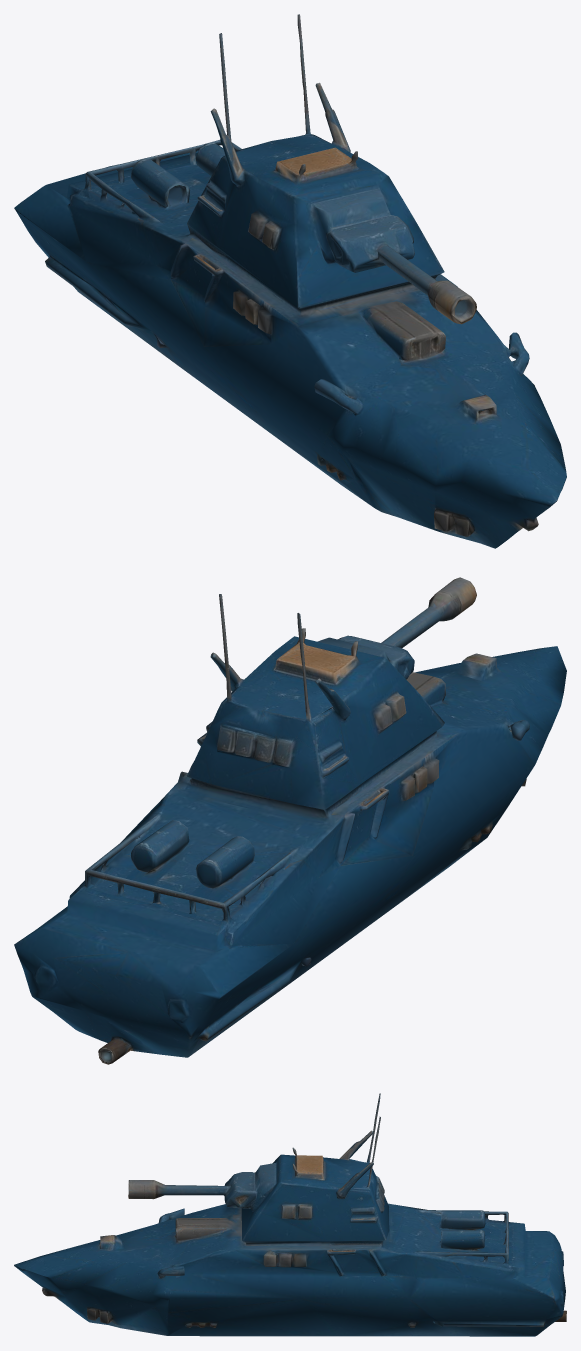
The model's file is armored.glb.
3 views of the same model, one above another, from view 1: azimuth 30°, elevation 25°; view 2: azimuth 150°, elevation 25°; view 3: azimuth 270°, elevation 25° (orthographic). The views are drawn at different scales.
Parts seen in each view (by area): view 1: armored-Meshy-cleaned; view 2: armored-Meshy-cleaned; view 3: armored-Meshy-cleaned.
Boxes of the visible parts, left/top/right/bottom form: armored-Meshy-cleaned: left=14, top=14, right=566, bottom=548; armored-Meshy-cleaned: left=14, top=577, right=566, bottom=1064; armored-Meshy-cleaned: left=14, top=1093, right=566, bottom=1336.
Size of the model in its own units: 0.5107 by 0.8245 by 1.9.
Materials: 1 (1 with a texture image).
